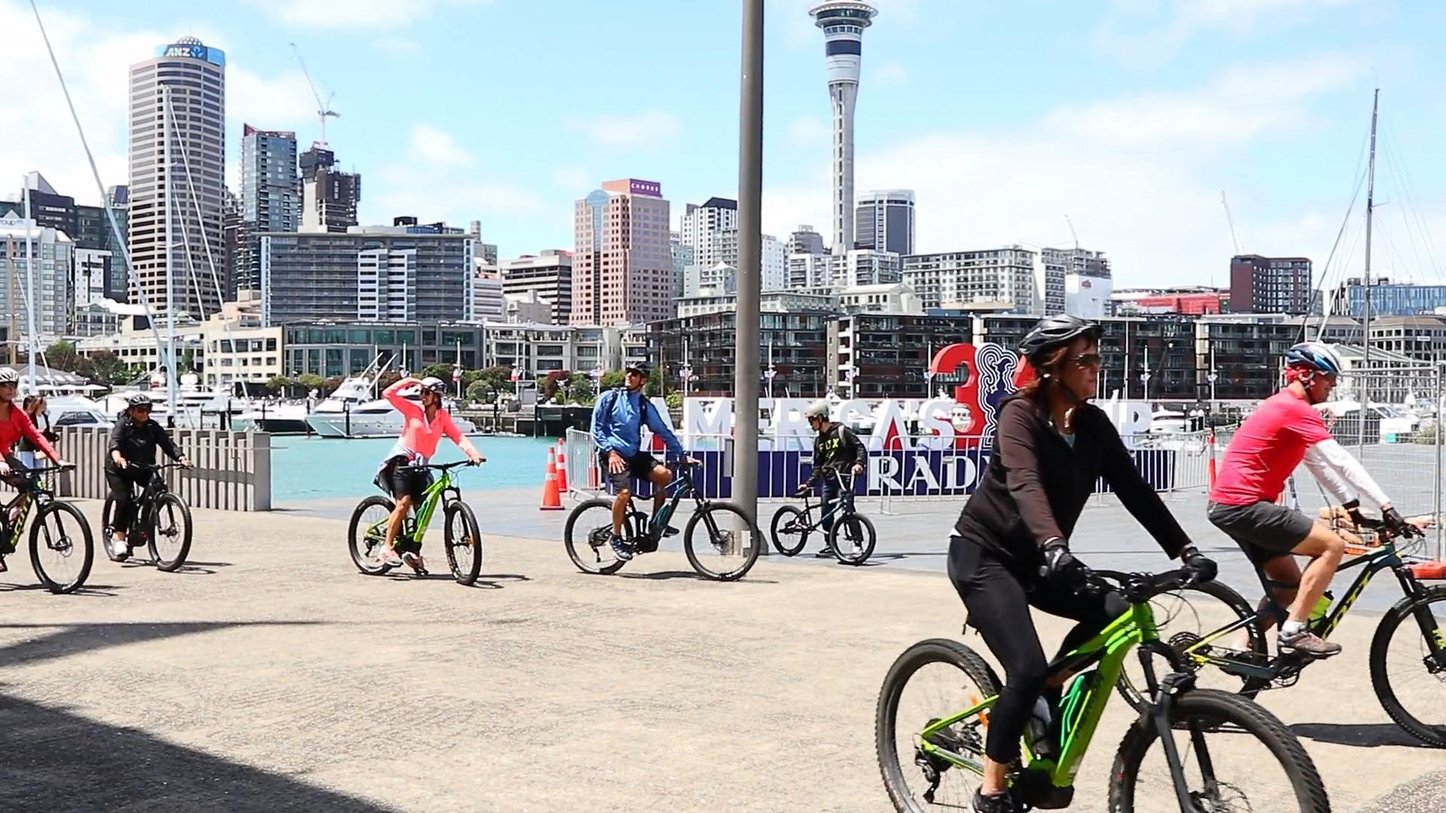bicyclist: (873, 313, 1332, 813), (1114, 342, 1446, 748), (565, 359, 761, 581), (348, 377, 487, 585), (0, 367, 94, 593), (102, 394, 194, 571)
helmet: (1017, 312, 1106, 405), (1285, 342, 1343, 405), (420, 377, 448, 408), (625, 360, 650, 392), (805, 401, 830, 433), (127, 394, 152, 424), (1, 367, 19, 404)
